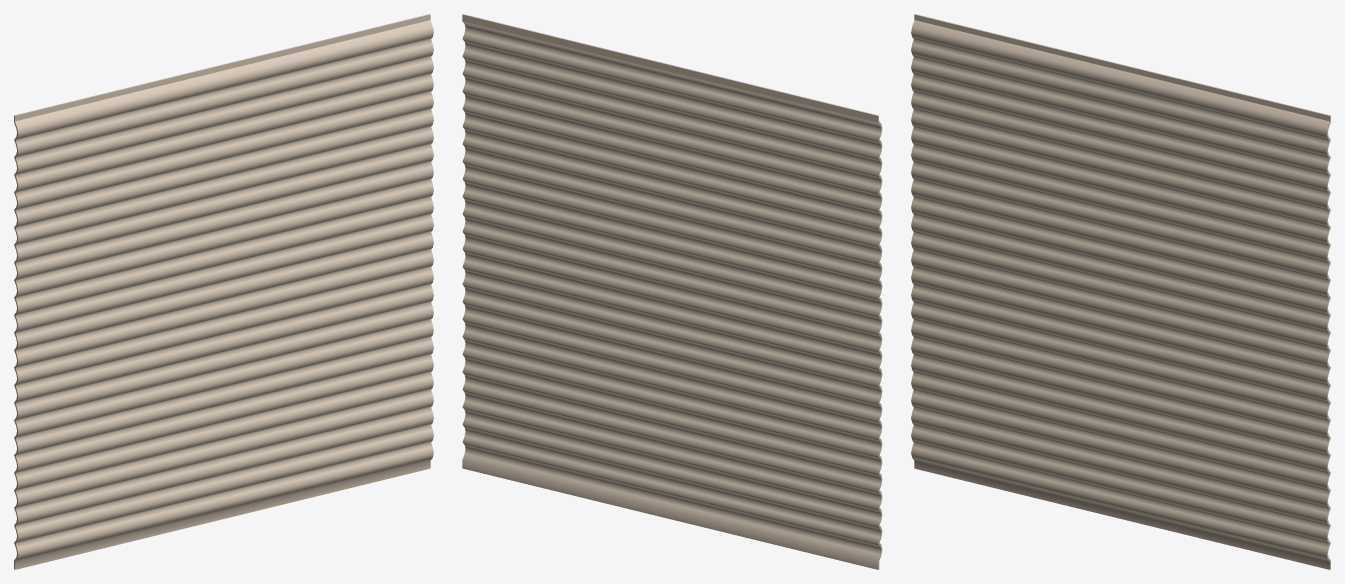
The model's file is JLM.fbx.
3 renders of one model, left to right at view 1: azimuth 30°, elevation 25°; view 2: azimuth 150°, elevation 25°; view 3: azimuth 330°, elevation 25°, orthographic.
Parts seen in each view (by area): view 1: menshan1; view 2: menshan1; view 3: menshan1.
Part boxes in pixels (x1,y1,x2,y2): menshan1: [14, 14, 433, 569]; menshan1: [462, 14, 882, 569]; menshan1: [911, 14, 1330, 569].
Bounding box in the file's own units: 239 × 249 × 4.21.
1 material, 1 textured.
